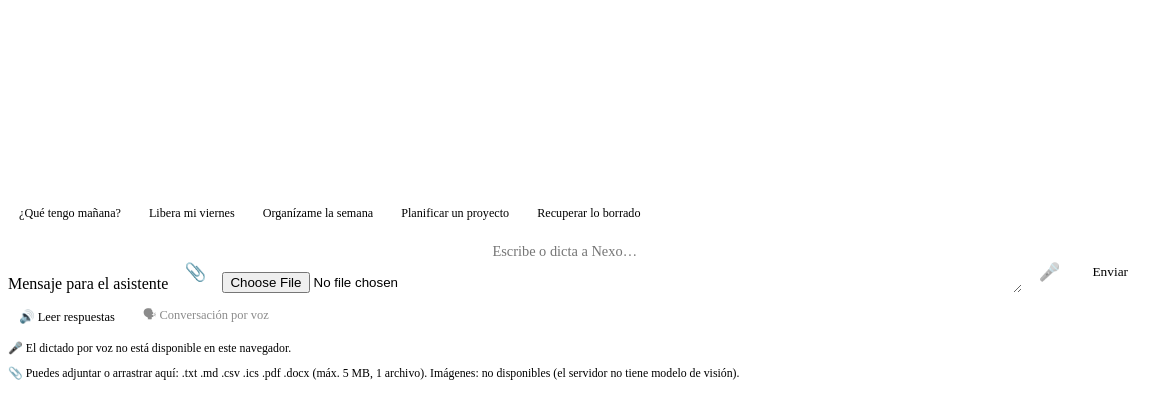
Test: ChatIA › un error del servidor se muestra como burbuja de error
Type "hola" into the text box labelled "Mensaje para el asistente" at point(752, 263), box [481,233,1022,293]
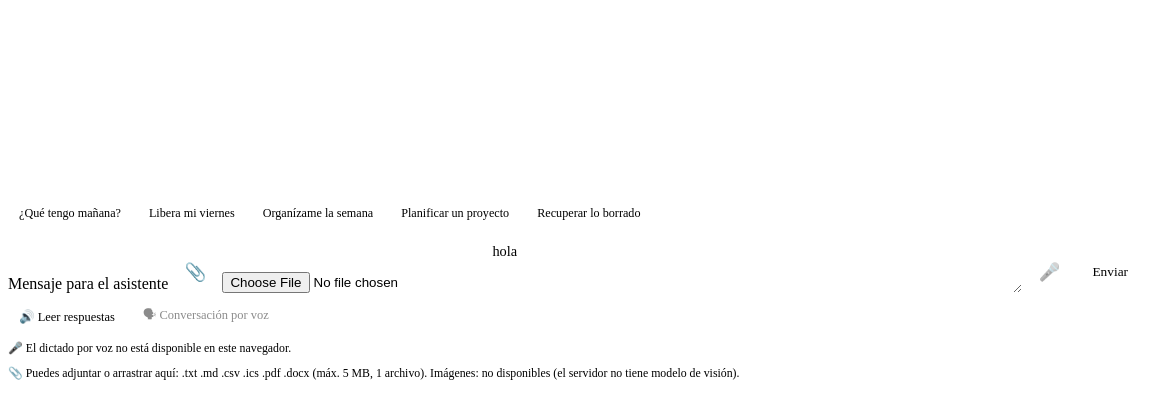
Submit the form, box [8,233,1144,293]
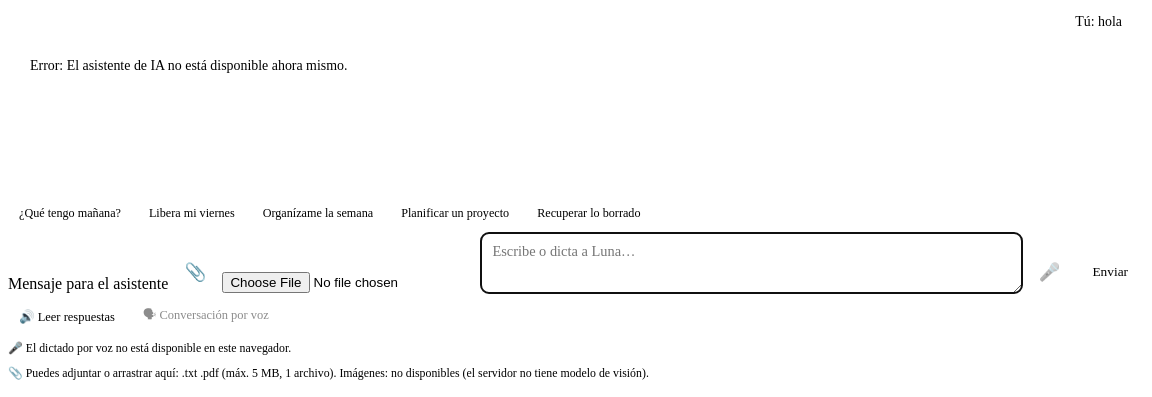
expect the element with class "error" shows "El asistente de IA no está disponible ahora mismo.": met, box [67,58,348,73]
